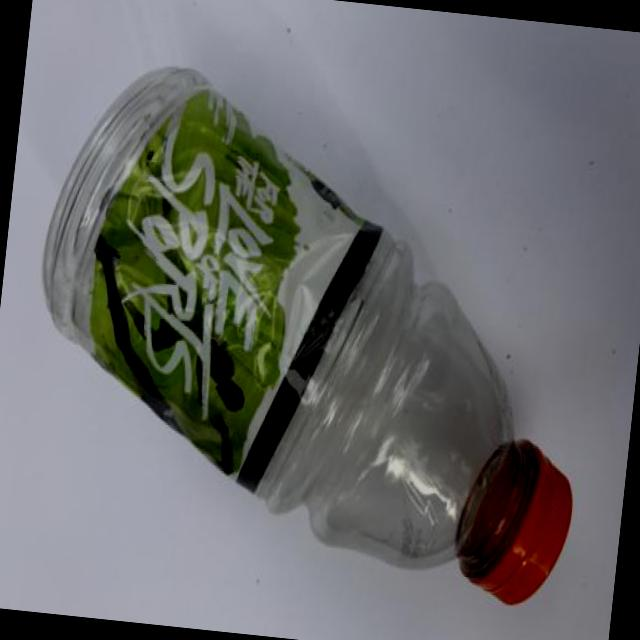Recycle: (11, 50, 616, 611)
